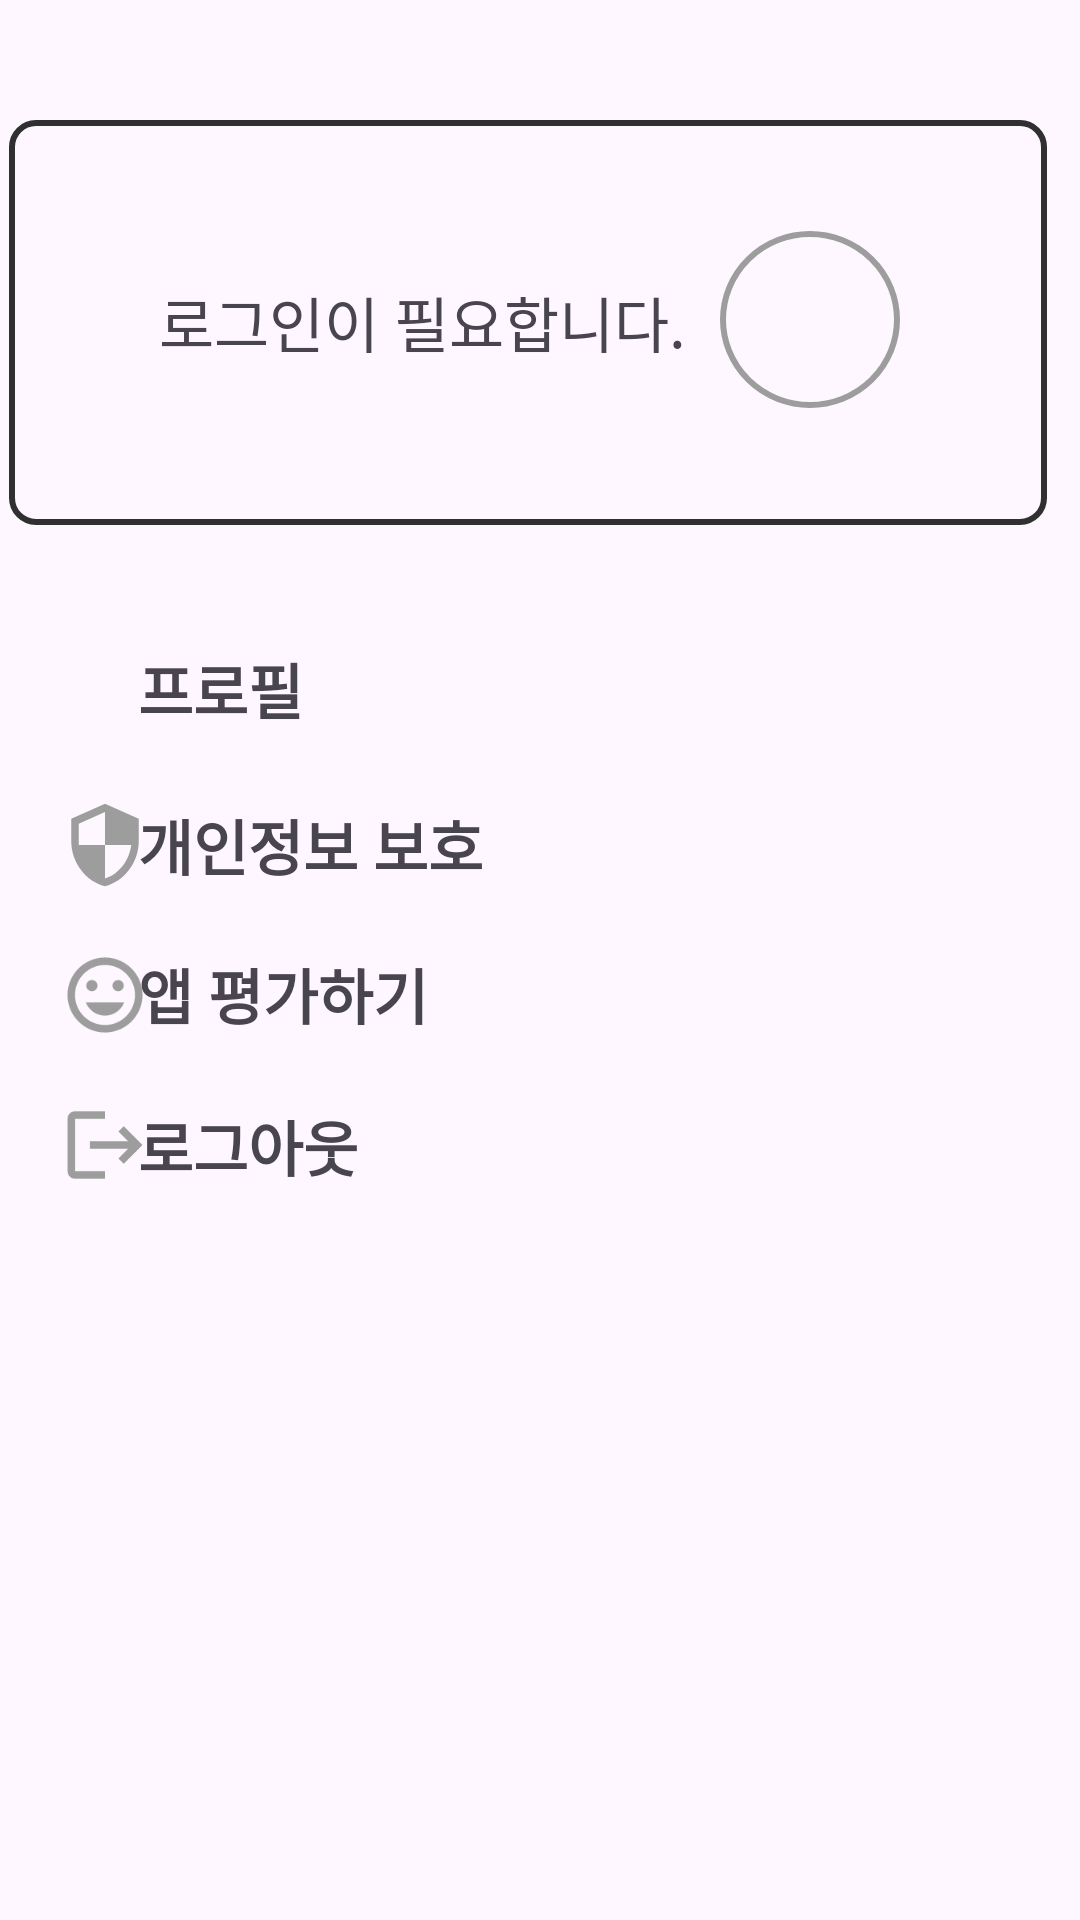

Where icons sit on this 1080x1920 app screen, as (x1,y1,x2,y2):
insert emoticon: (67,957,150,1033)
security: (71,804,139,886)
